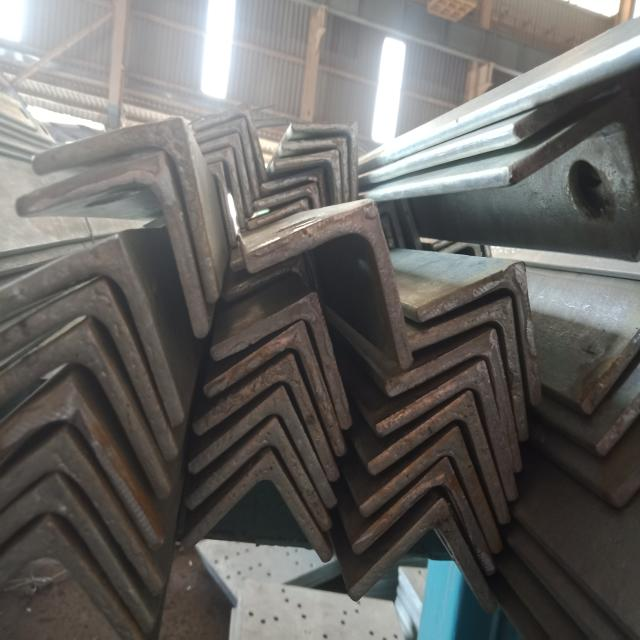metal-angles: (16, 150, 210, 338), (0, 234, 185, 426), (32, 116, 219, 303), (0, 276, 179, 461), (0, 320, 170, 498), (0, 370, 166, 552), (245, 198, 413, 369), (1, 428, 165, 597), (0, 473, 154, 634), (376, 360, 518, 500), (210, 291, 353, 429), (385, 329, 523, 472), (204, 319, 347, 455), (193, 353, 340, 482), (368, 392, 511, 524), (416, 260, 542, 406), (360, 426, 504, 553), (188, 386, 337, 508), (1, 516, 144, 640), (409, 295, 529, 441), (349, 497, 498, 613), (352, 457, 497, 574), (182, 450, 333, 562), (186, 416, 333, 531), (191, 101, 268, 182), (194, 117, 261, 200), (291, 121, 359, 201), (281, 136, 350, 204), (199, 133, 254, 216), (273, 149, 342, 204), (204, 147, 247, 230), (262, 167, 327, 207), (254, 182, 321, 210)
